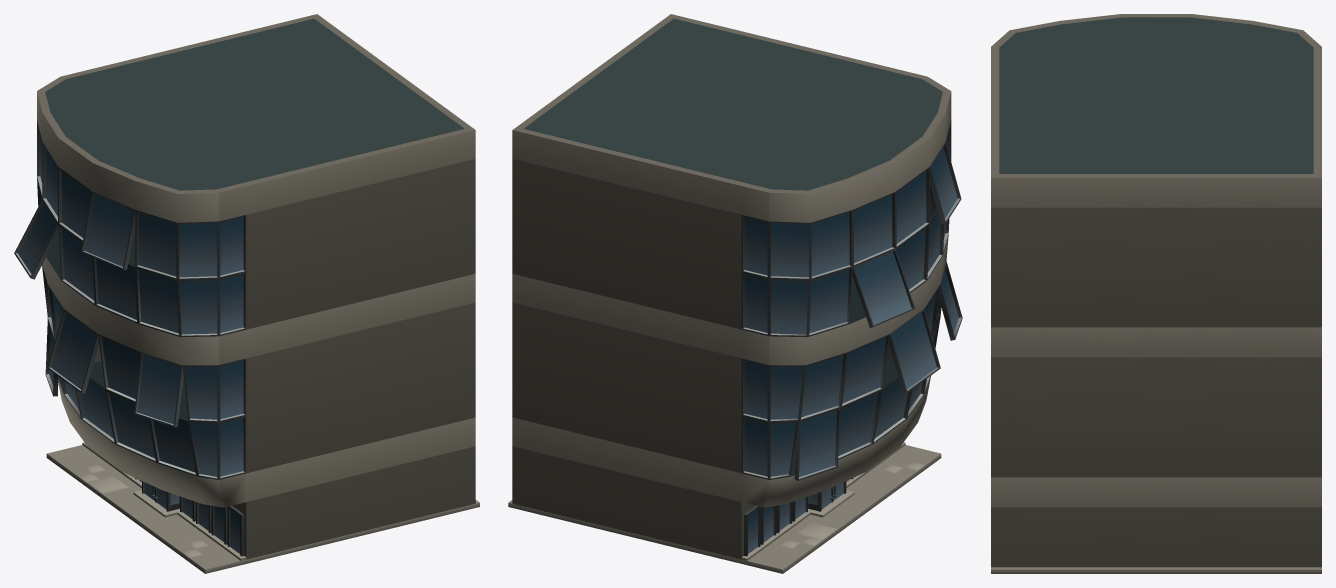
File: Press_Tower_1A.fbx
The picture shows the model from 3 angles, left to right: view 1: azimuth 30°, elevation 25°; view 2: azimuth 150°, elevation 25°; view 3: azimuth 270°, elevation 25°; orthographic projection. The views are drawn at different scales.
Visible parts, largest first — view 1: Press_Tower_1A; view 2: Press_Tower_1A; view 3: Press_Tower_1A.
Boxes of the visible parts, <box> form: Press_Tower_1A: <box>14,14,479,573</box>; Press_Tower_1A: <box>508,14,962,573</box>; Press_Tower_1A: <box>991,14,1321,573</box>.
Bounding box in the file's own units: 25.42 × 26.3 × 20.
